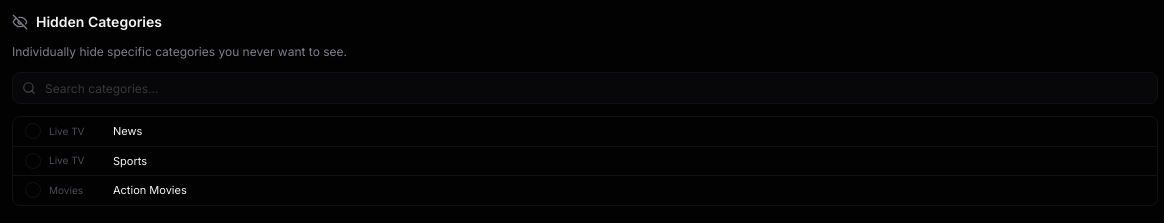
HiddenCategoriesSection › shows empty state when no categories match filter
Type "ZZZZZZ" into the field with placeholder "Search categories..." at {"x": 585, "y": 88}, box left=12, top=72, right=1158, bottom=104
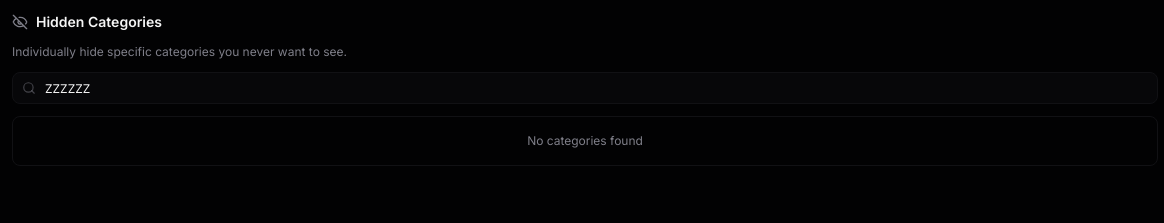
Expected: the text "No categories found" is shown, left=527, top=133, right=643, bottom=148
